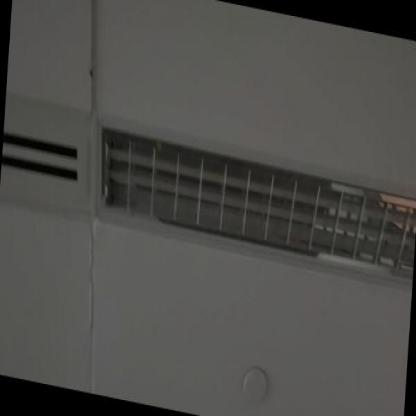light_off: (88, 94, 416, 312)
